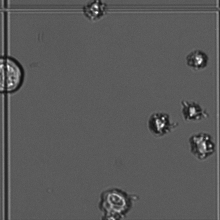Living Cell: (185, 129, 220, 164), (99, 186, 132, 220), (78, 1, 112, 34), (1, 52, 27, 94), (145, 109, 177, 141), (184, 47, 212, 75), (180, 98, 207, 125)
